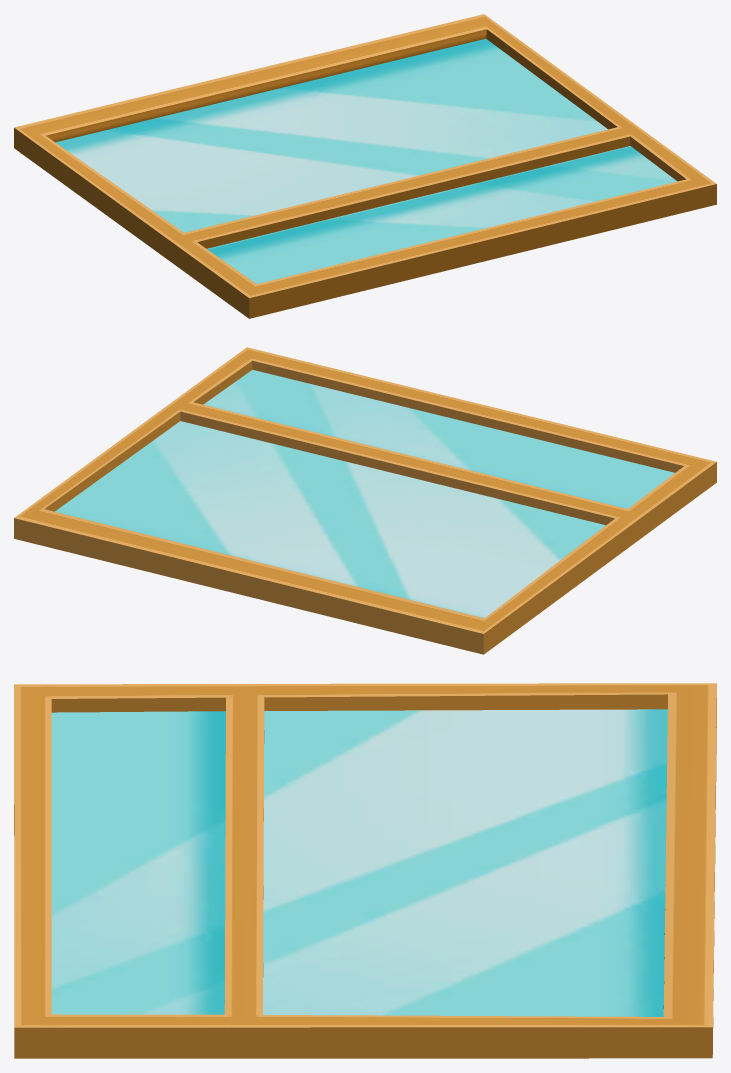
File: HouseWindowWide.fbx
3 renders of one model, top to bottom at view 1: azimuth 30°, elevation 25°; view 2: azimuth 150°, elevation 25°; view 3: azimuth 270°, elevation 25°, orthographic. The views are drawn at different scales.
Parts seen in each view (by area): view 1: HouseWindowWide; view 2: HouseWindowWide; view 3: HouseWindowWide.
Boxes of the visible parts, x1,y1,x2,y2 form: HouseWindowWide: (14,14,716,318); HouseWindowWide: (14,347,716,654); HouseWindowWide: (14,683,716,1058).
Bounding box in the file's own units: 148 × 6.36 × 128.
